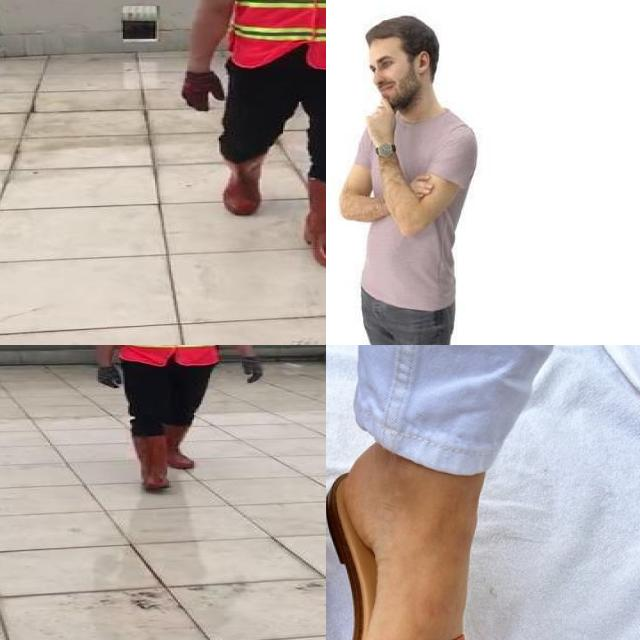No_Ear-Protection: (412, 48, 432, 80)
No_Glasses: (372, 50, 402, 76)
Sandals: (326, 457, 481, 640)
boots: (214, 155, 267, 215), (133, 434, 171, 493), (162, 423, 203, 470), (306, 177, 326, 270)
face_nomask: (359, 74, 412, 102)
hand_glove: (180, 71, 224, 111), (95, 363, 121, 388), (240, 357, 264, 384)
hand_noglove: (362, 98, 406, 168)
person: (336, 13, 478, 345), (171, 0, 326, 281), (83, 345, 270, 500)
vest: (227, 0, 326, 67), (119, 345, 220, 367)
